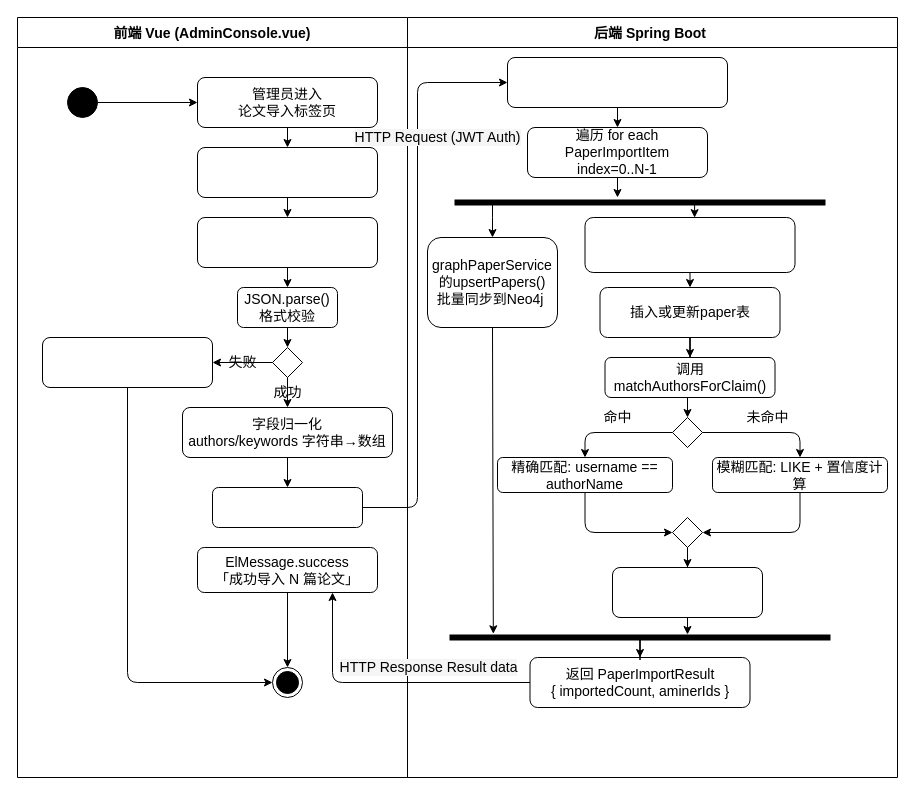
Image size: 915x795. Some labels were removed from this diagram. The shapes that lost their labels are listed below. From the top down, each one's centre as x and y in pixels, then its label:
At point (617, 82): "AdminController.importPapers() @PostMapping + ADMIN 鉴权 @Transactional 事务边界".
At point (287, 172): "编辑 JSON 文本框 paperImportText".
At point (287, 242): "点击「导入论文」按钮".
At point (689, 244): "生成/校验 aminerId，为空则 `manual_`+timestamp+index".
At point (127, 362): "ElMessage.error 「请输入合法的JSON数组」".
At point (287, 507): "触发POST 请求".
At point (687, 592): "向 paper_author_claim 插入数据".
